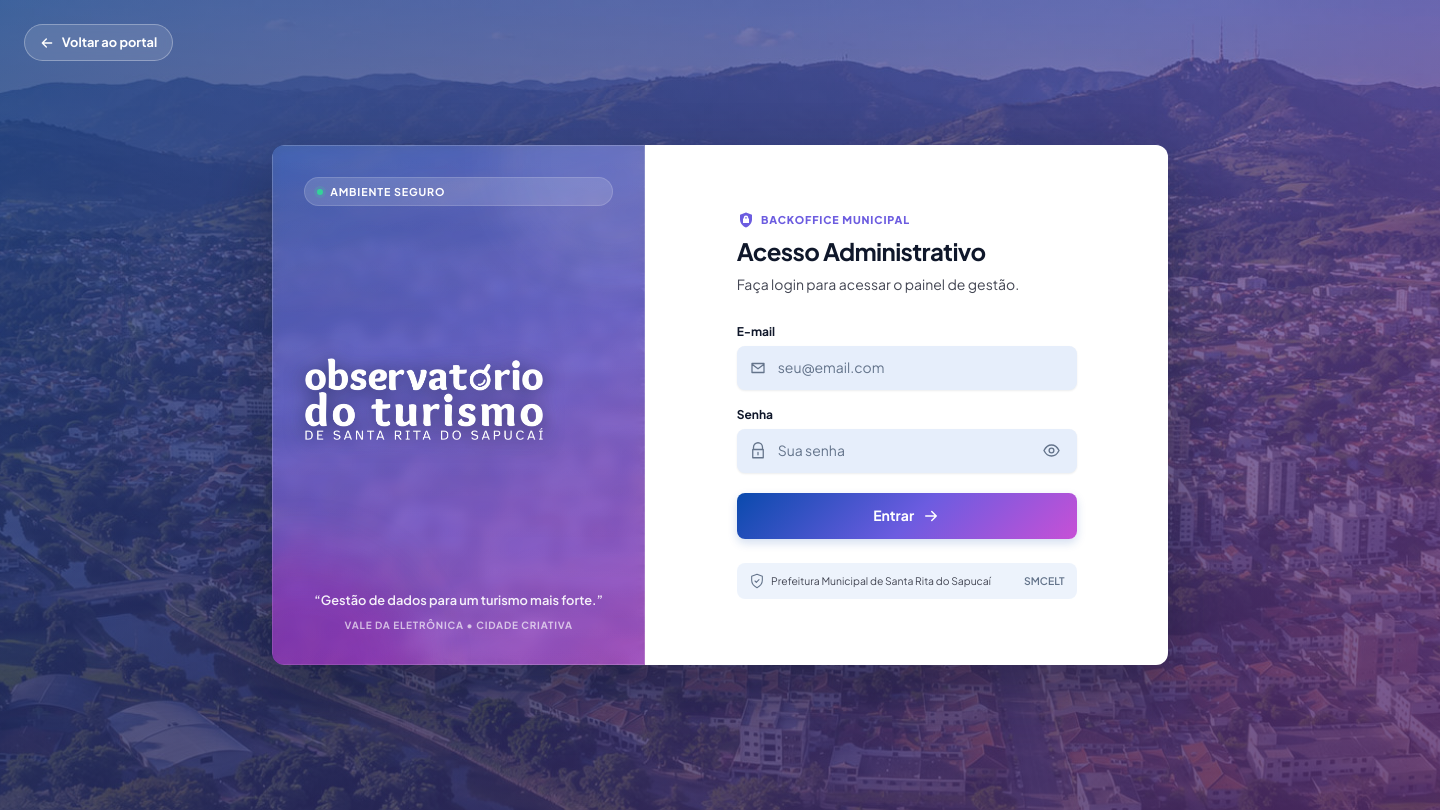
tela de login administrativa › exibe o erro 401 e permanece na tela de login
The width and height of the screenshot is (1440, 810).
Type "admin@example.com" into the field labelled "E-mail".
click(907, 368); type("admin@example.com")  # box [737,346,1077,390]
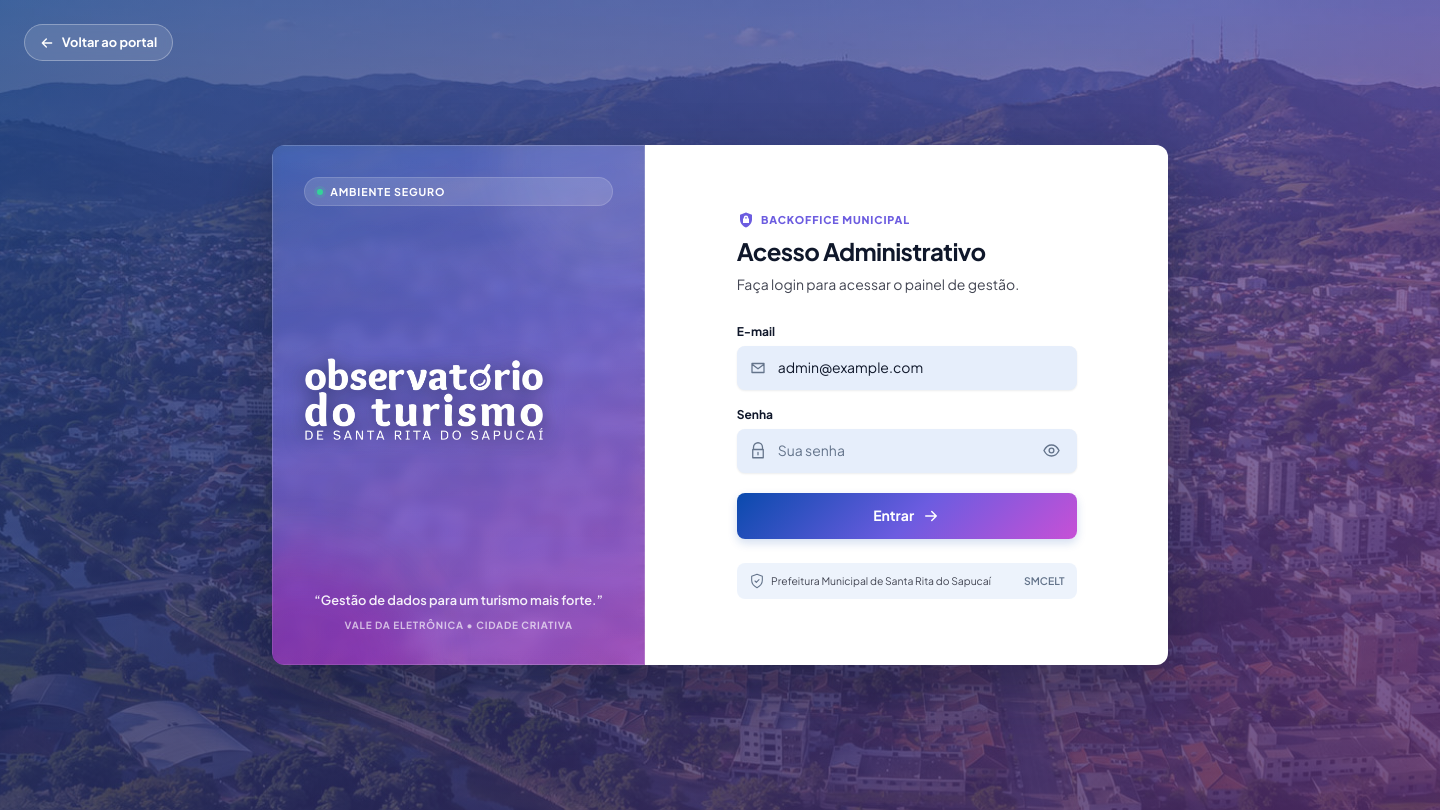
Type "errada" into the password field labelled "Senha".
click(907, 451); type("errada")  # box [737,429,1077,473]
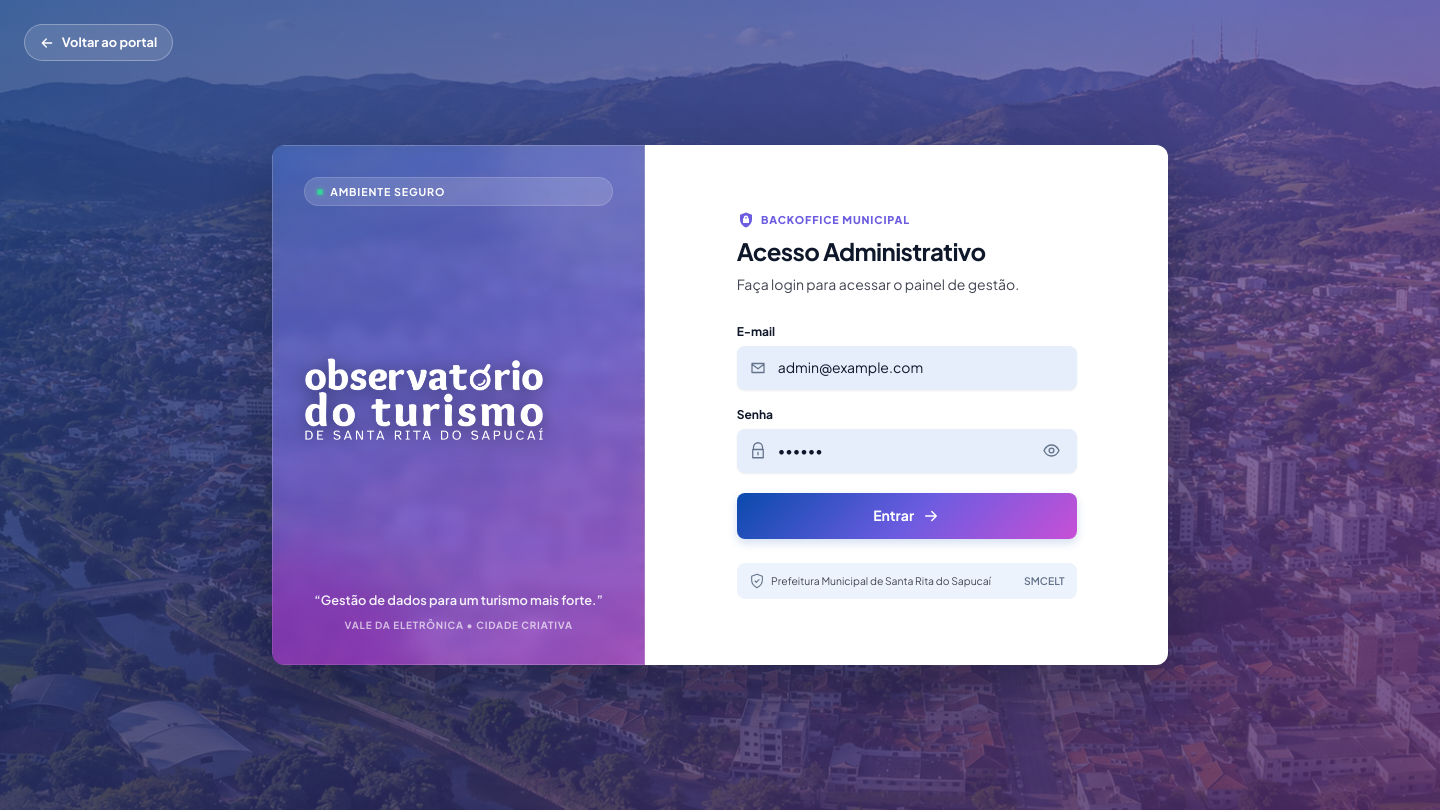
Click the button "Entrar".
click(907, 516)  # box [737,493,1077,539]
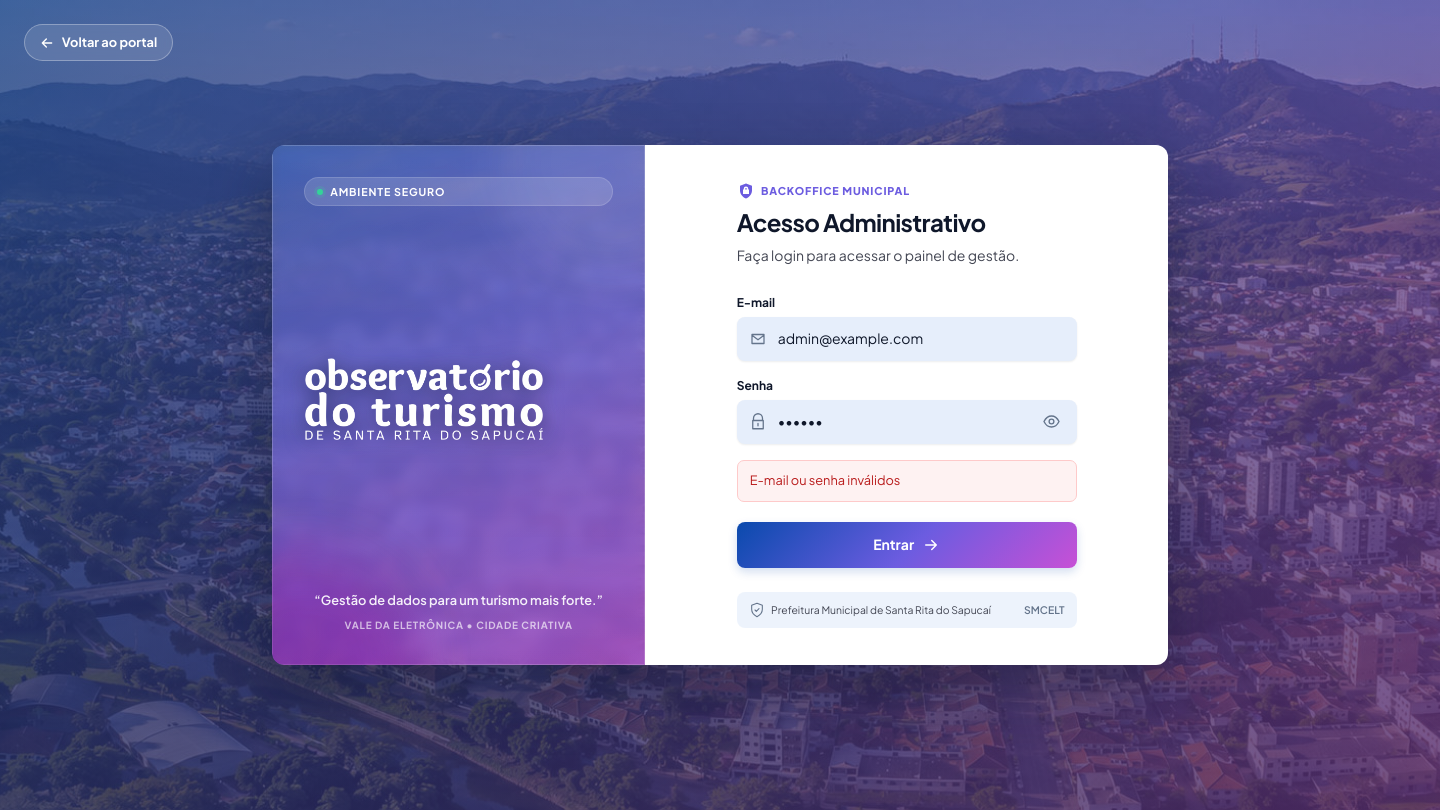
Expected: the heading "Acesso Administrativo" is shown, [737,207,986,237]
Now the message reads "E-mail ou senha inválidos", box [750,472,900,488]
